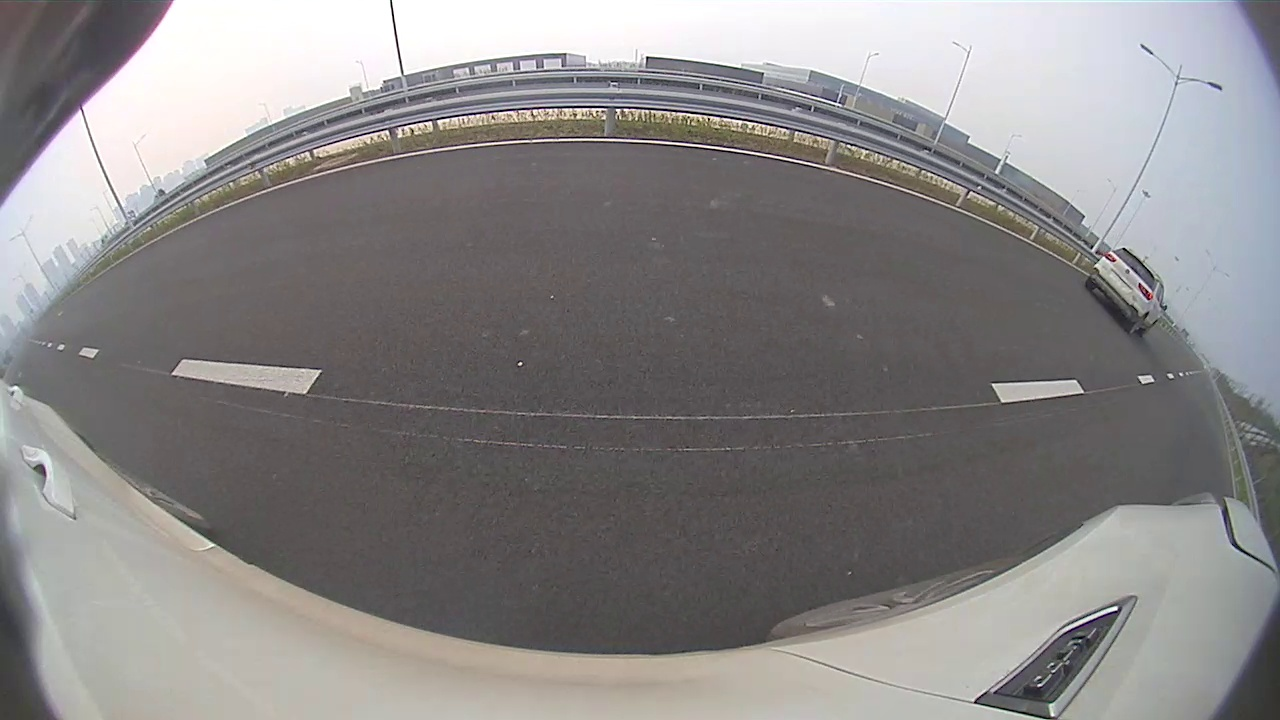car: (798, 137, 1000, 254)
front: (799, 181, 821, 216)
rear: (869, 194, 908, 247)
